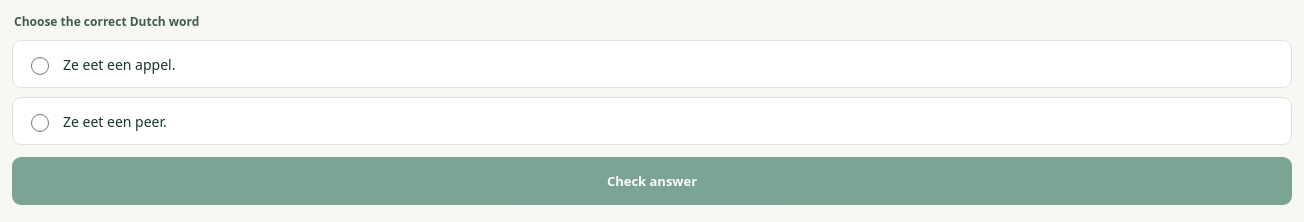
exercise renderers › clears multiple-choice selection when rerendered with a new exercise
Later steps or results of the test are not shown.
What coordinates should you click on to do the following:
click the radio button labelled "Ze eet een peer."
I would click on:
 (40, 122)
Its box is [31,114,49,132].
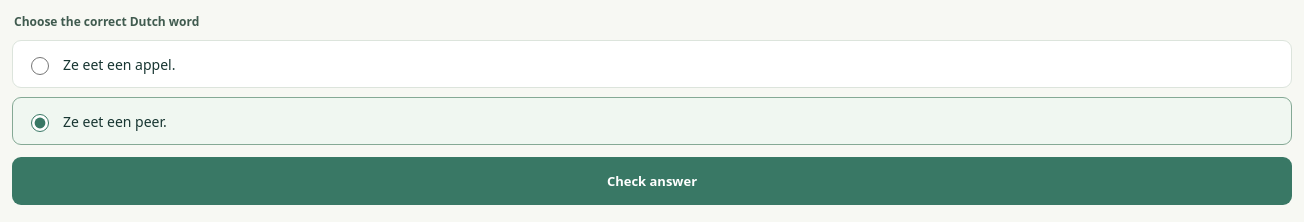
Expected: the radio button labelled "Ze eet een peer." is checked, [31,114,49,132]
